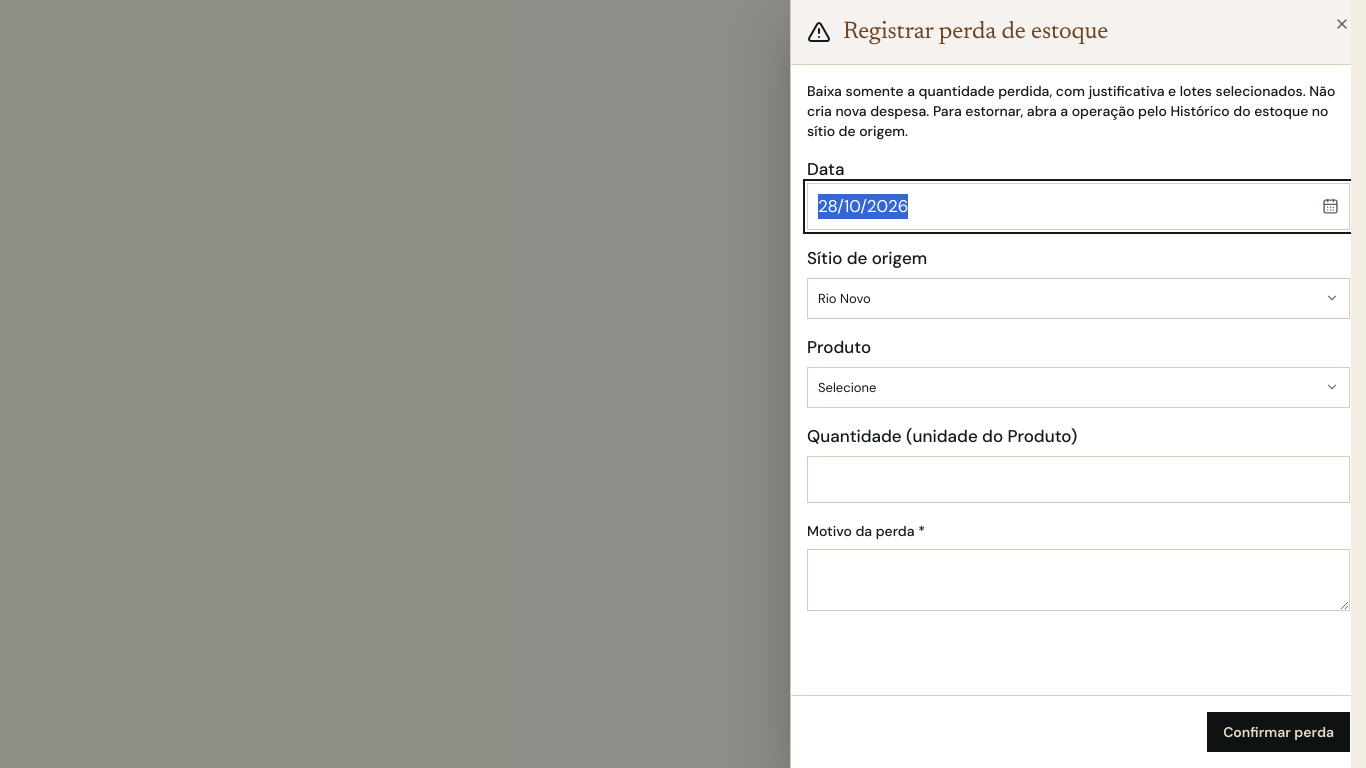
perda de estoque › destaca motivo inválido  abcd , foca e conserva os campos
Click the dropdown named "Produto". click: x=847, y=387
box: left=807, top=366, right=1350, bottom=408
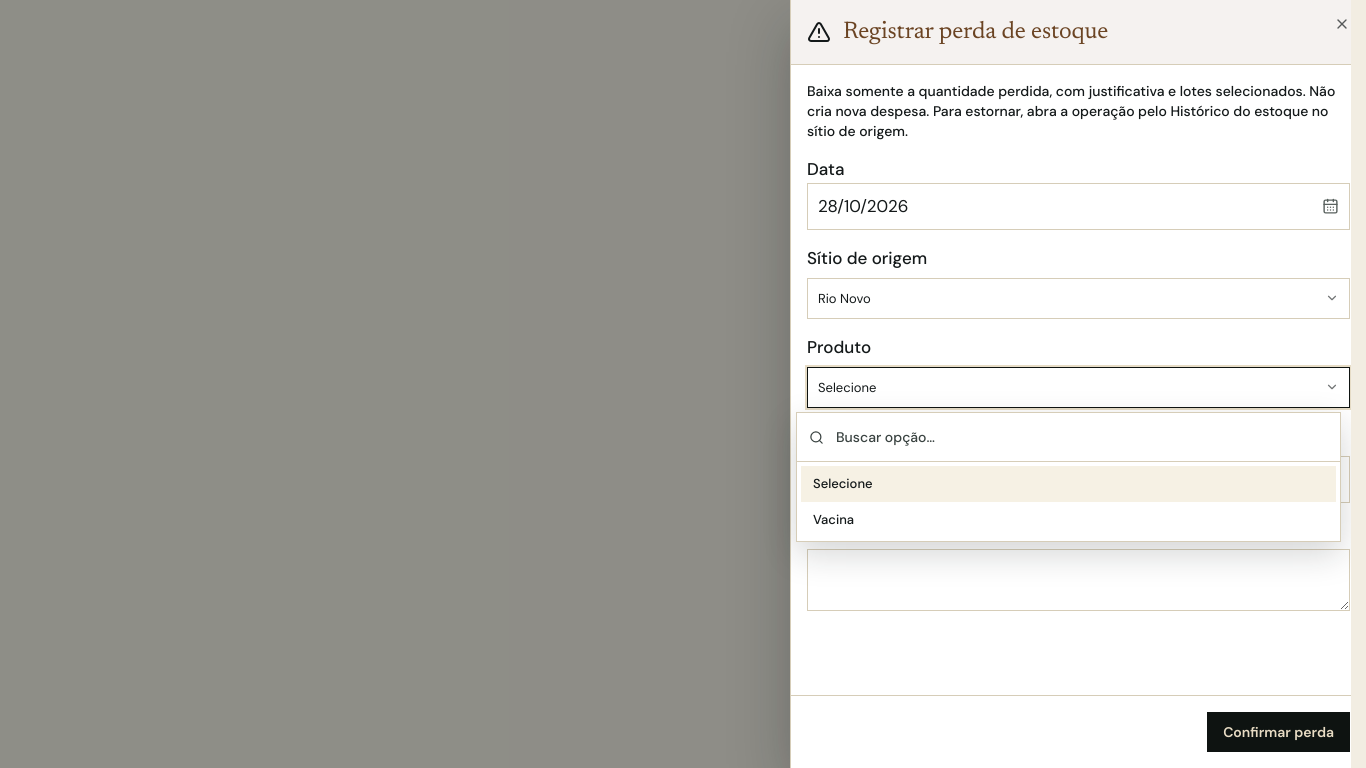
Click the option "Vacina". click: x=834, y=519
box: left=813, top=510, right=854, bottom=528
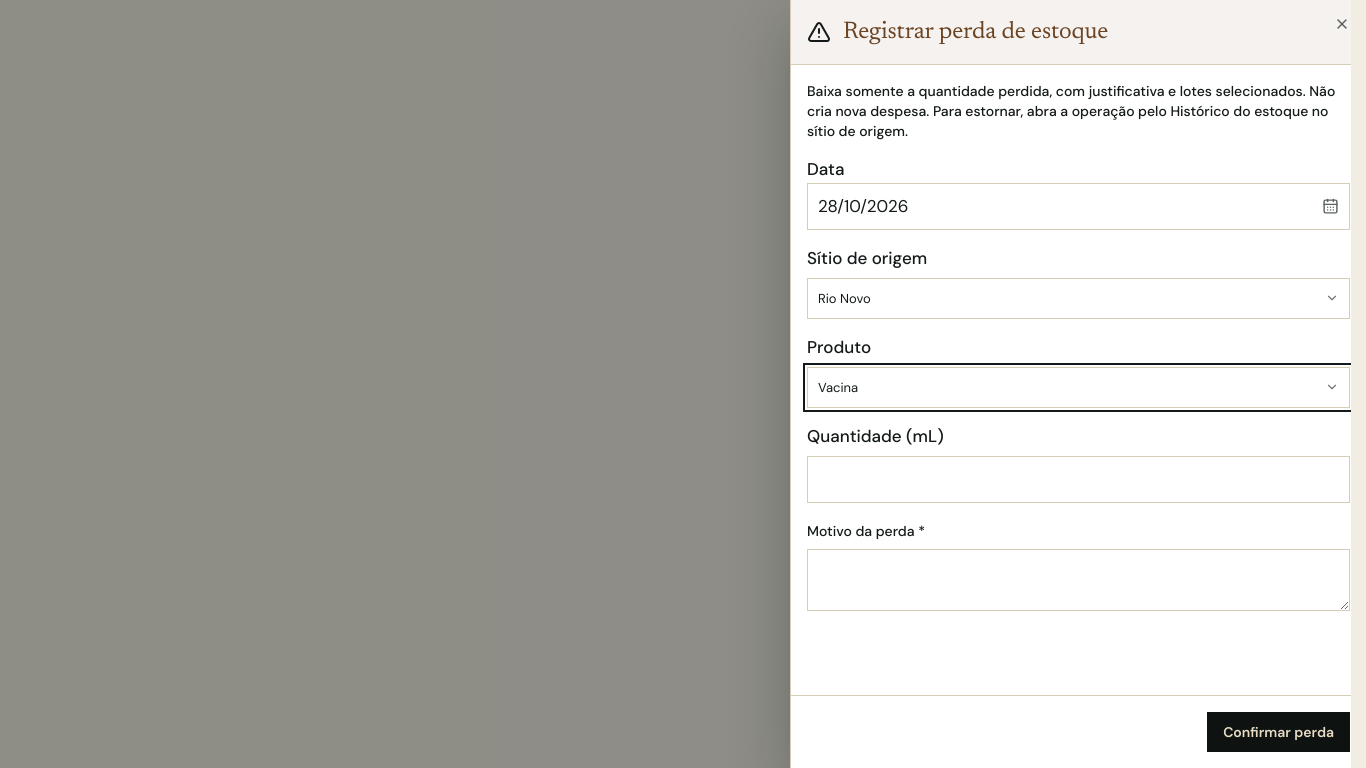
Type "2" into the number field labelled "Quantidade (mL)". click: x=1078, y=479
box: left=807, top=456, right=1350, bottom=503
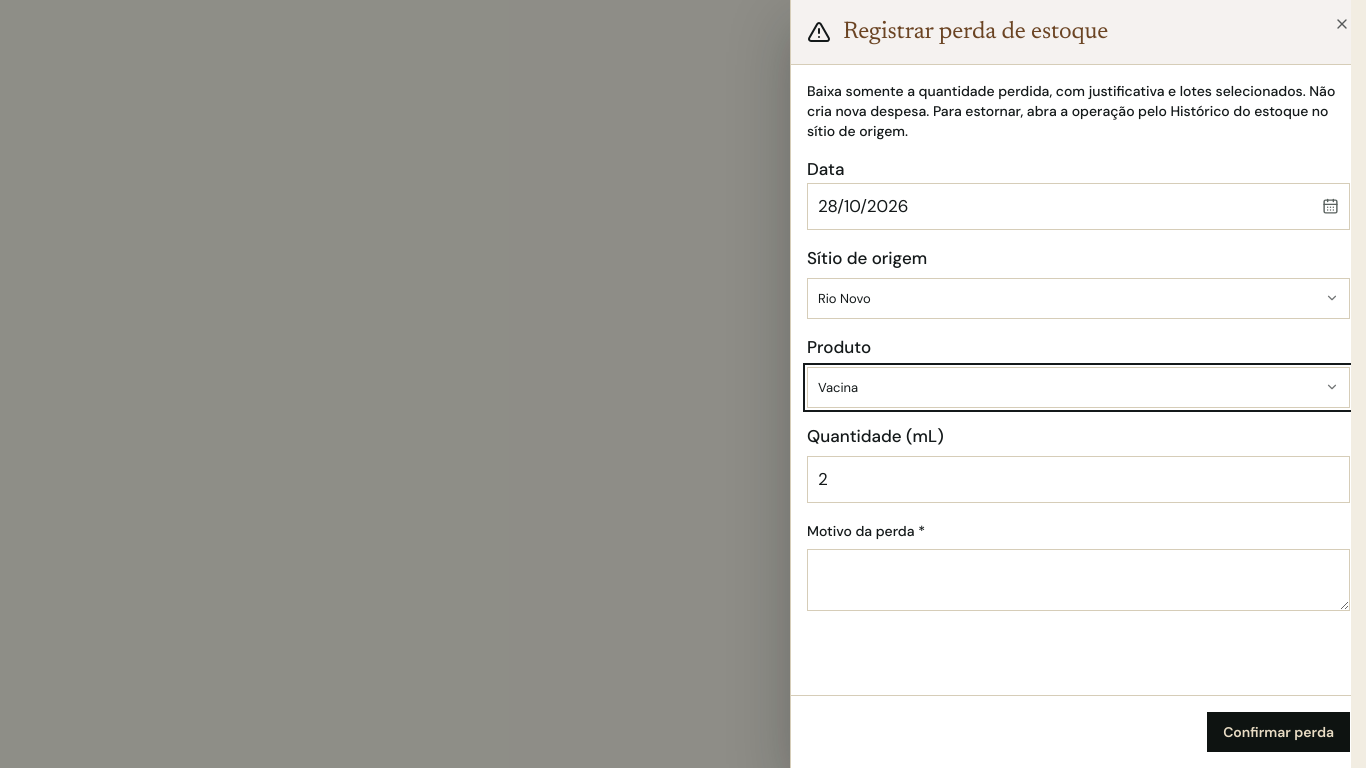
Type " abcd " into the text box labelled "Motivo da perda". click: x=1078, y=580
box: left=807, top=549, right=1350, bottom=611
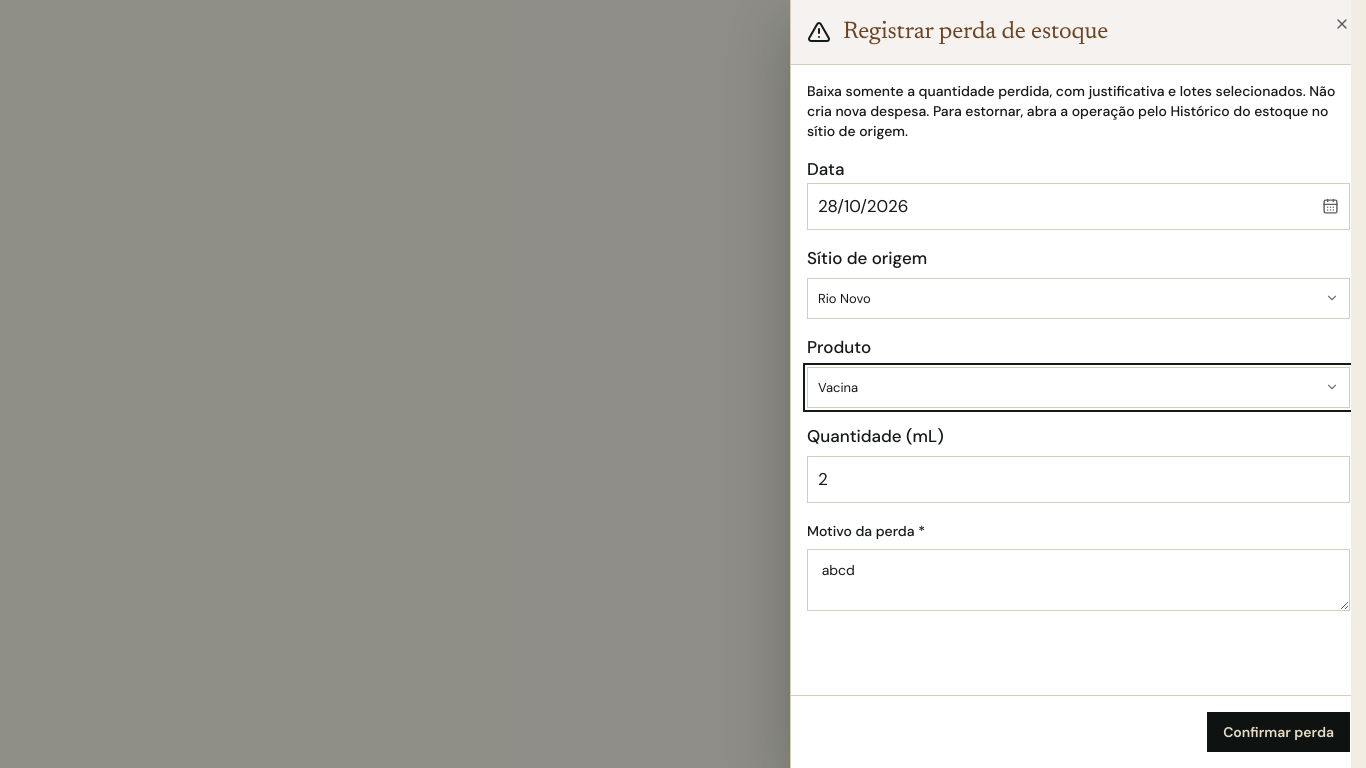
Click the button "Confirmar perda". click: x=1279, y=732
box: left=1207, top=712, right=1350, bottom=752
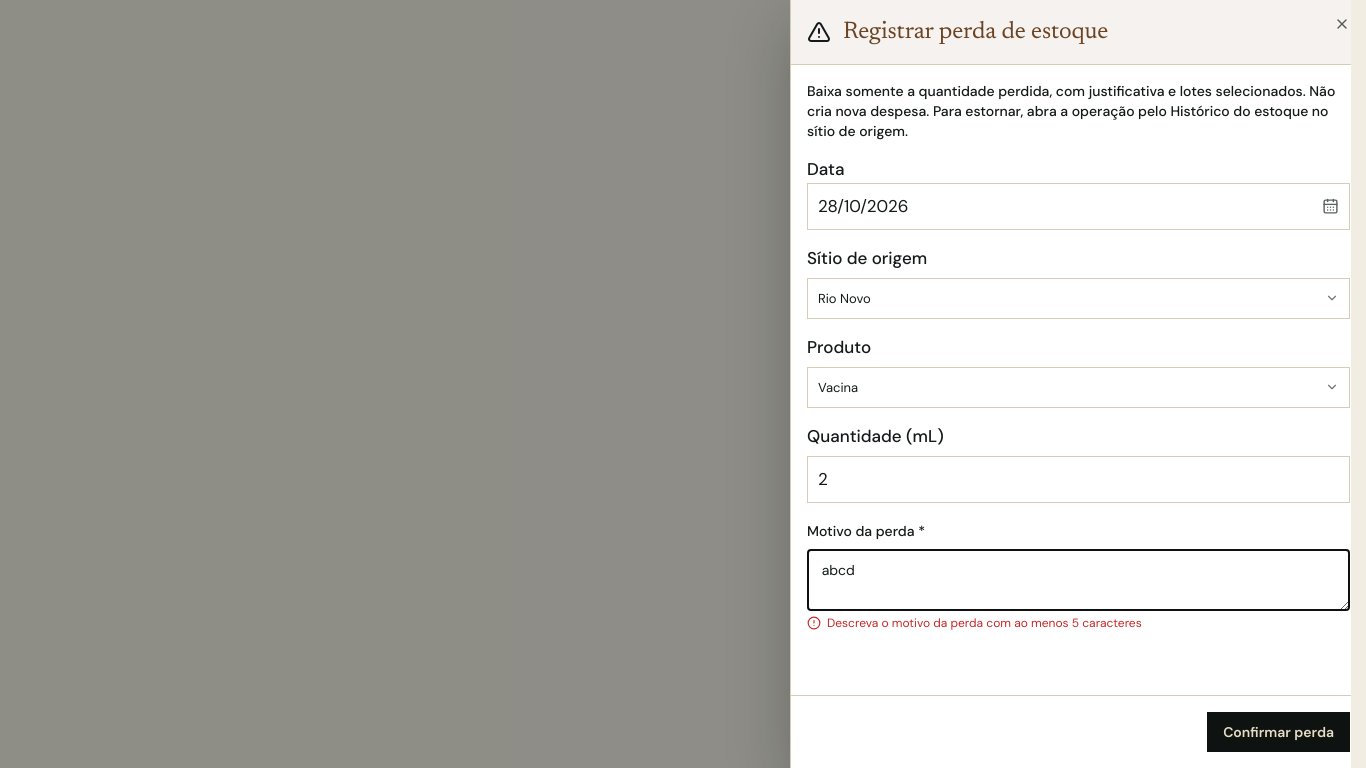
Check: the message shows "motivo da perda", box left=827, top=615, right=1142, bottom=631
